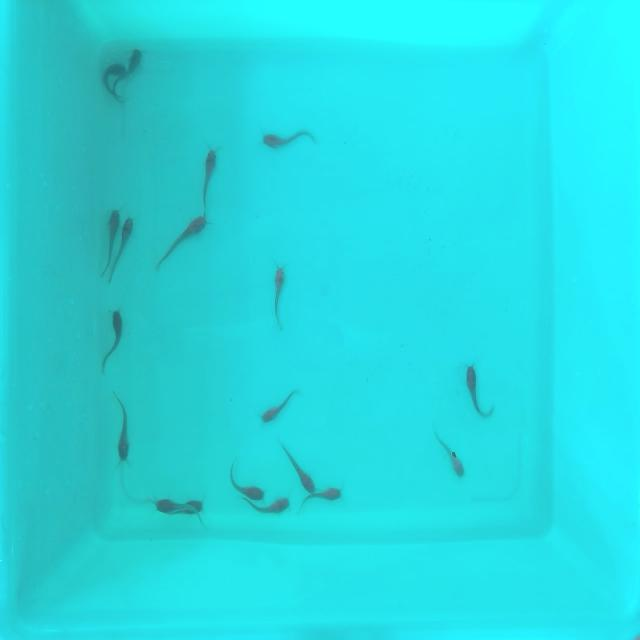lele: (149, 212, 211, 272), (276, 440, 316, 496), (460, 362, 490, 420), (100, 310, 128, 372), (256, 386, 298, 426), (112, 396, 132, 464), (294, 484, 345, 510), (223, 476, 265, 506), (259, 130, 316, 152), (200, 144, 218, 210), (99, 209, 119, 265), (241, 496, 292, 516), (118, 214, 134, 274), (272, 264, 286, 328), (426, 425, 452, 459), (181, 496, 209, 524), (124, 48, 140, 88), (446, 448, 464, 478), (152, 494, 179, 514), (100, 66, 126, 84)
